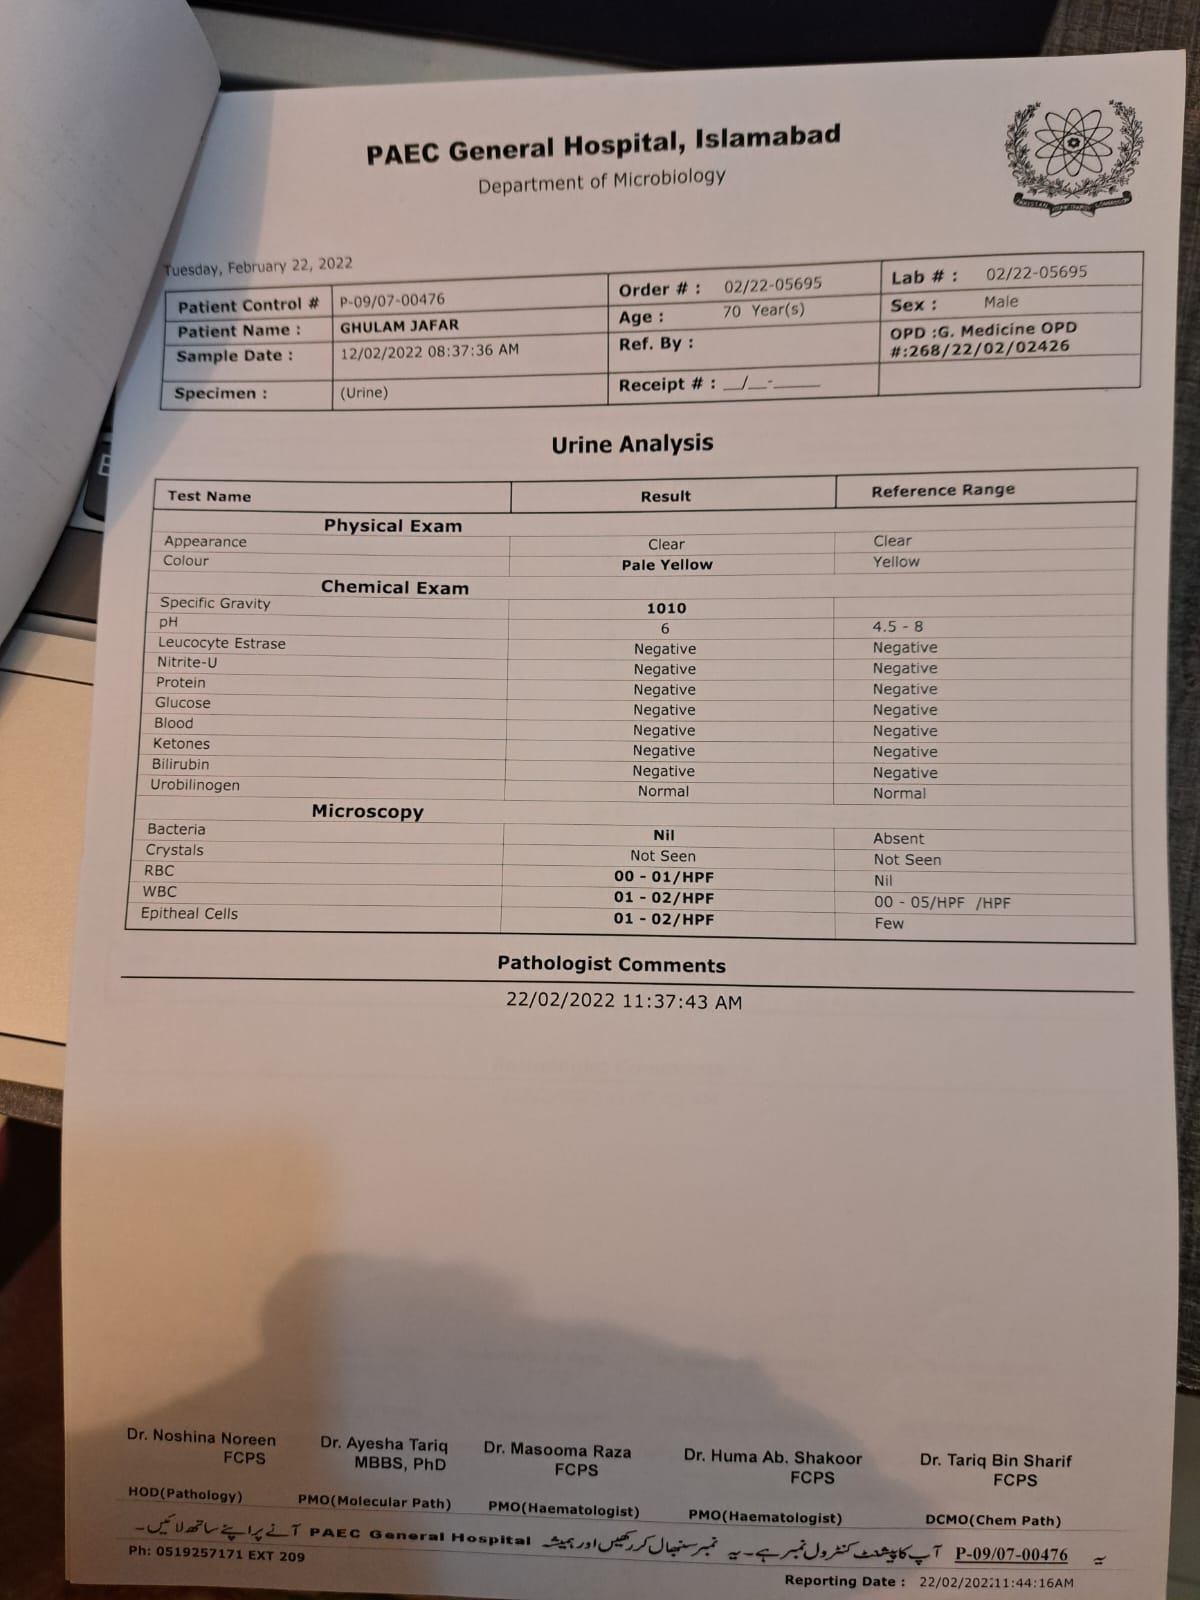report: (121, 477, 1143, 951)
